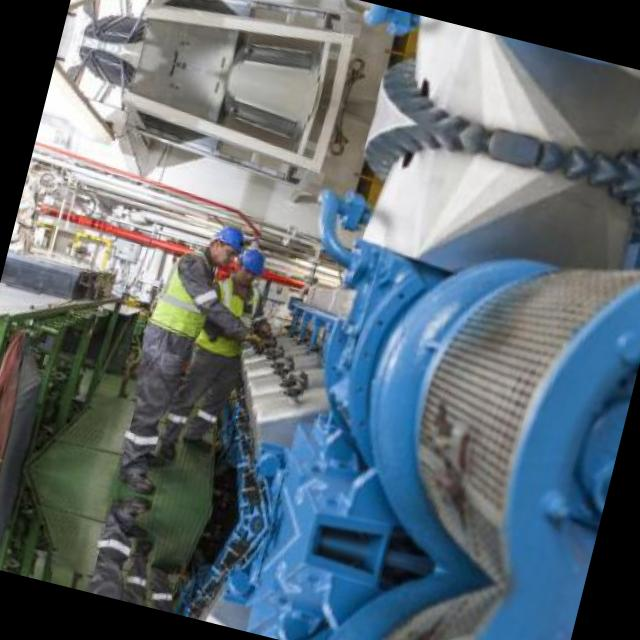helmet: (202, 215, 250, 267), (231, 245, 268, 288)
